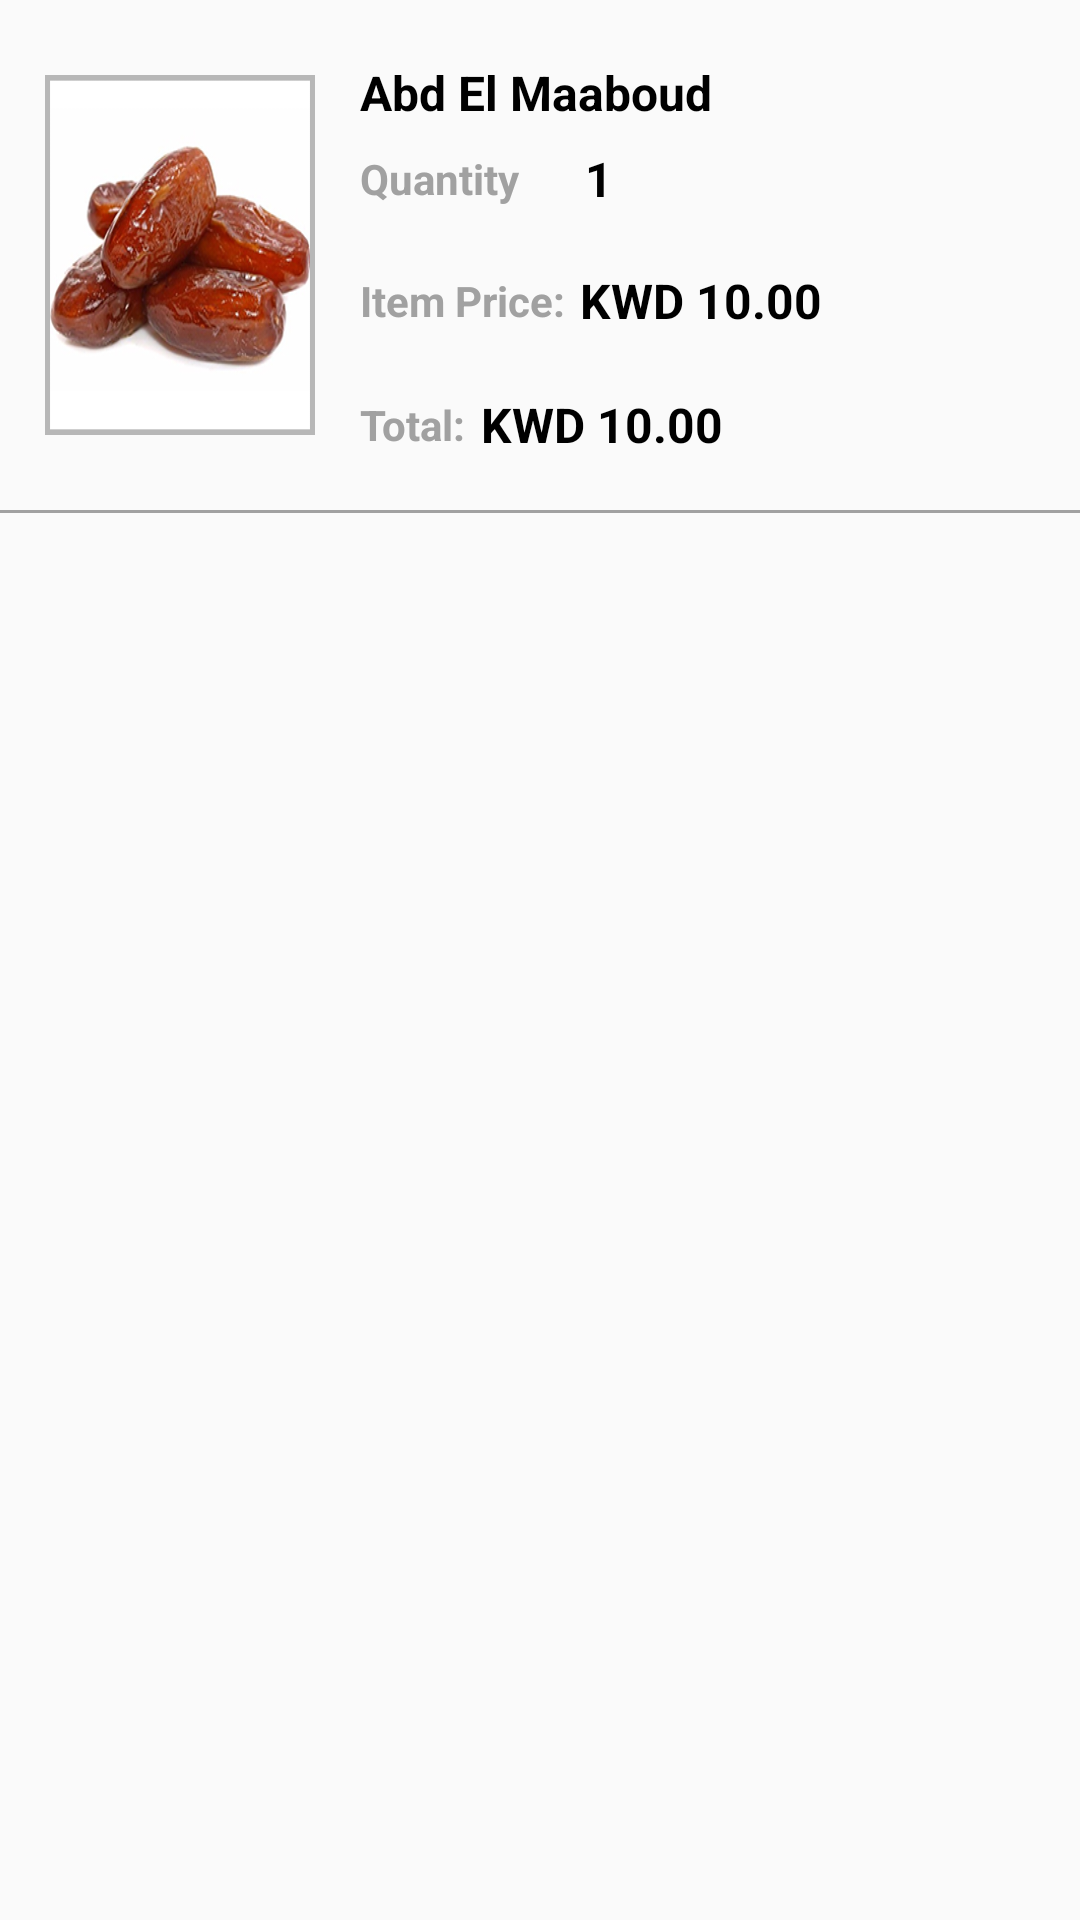

Named icons in this screenshot (1080px×1920px) and their centers, (x,y):
dates: (180,254)
